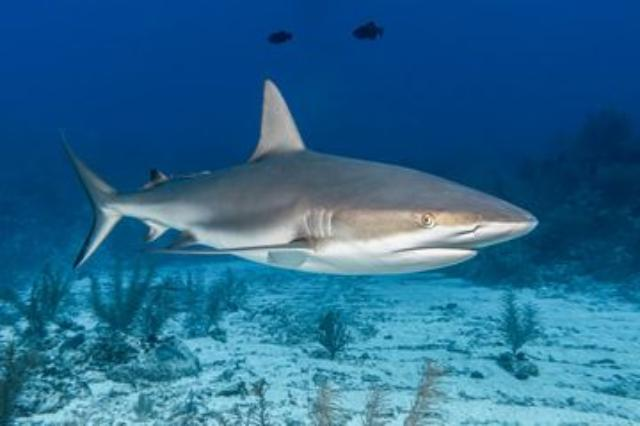Mulut: (378, 228, 500, 284)
Sirip Anal: (138, 214, 174, 249)
Sirip Dada: (47, 121, 131, 286), (158, 231, 334, 271)
Sirip Perut: (170, 228, 212, 254)
Sirip Punggung: (142, 60, 320, 196)
